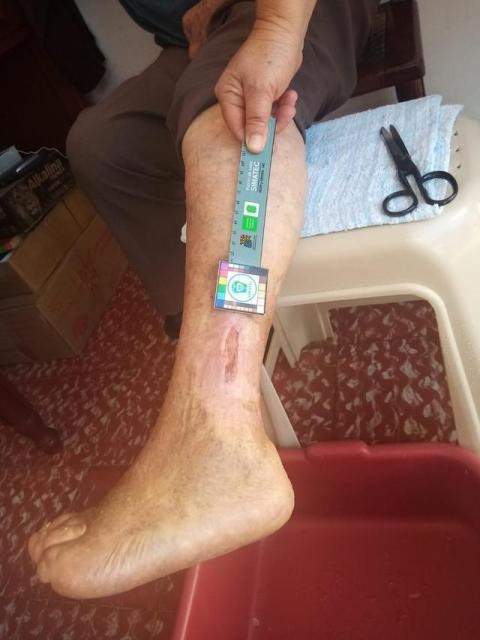wound: (222, 327, 239, 384)
